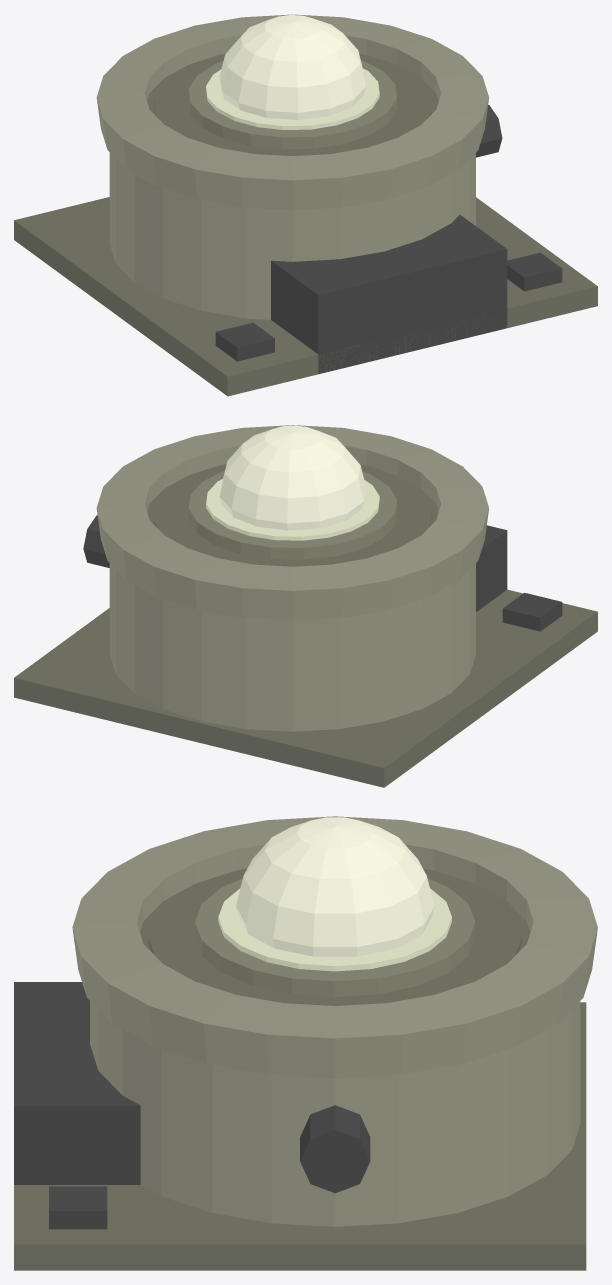
The model's file is Building_Gloomlight.glb.
3 views of the same model, one above another, from view 1: azimuth 30°, elevation 25°; view 2: azimuth 150°, elevation 25°; view 3: azimuth 270°, elevation 25° (orthographic). The views are drawn at different scales.
Visible parts, largest first — view 1: Gloomlight; view 2: Gloomlight; view 3: Gloomlight.
Boxes of the visible parts, <box> form: Gloomlight: <box>14,14,597,396</box>; Gloomlight: <box>14,425,597,787</box>; Gloomlight: <box>14,816,597,1270</box>.
Size of the model in its own units: 1.01 by 0.61 by 1.
1 material, 1 textured.
